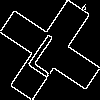L: (25, 25, 74, 78)
